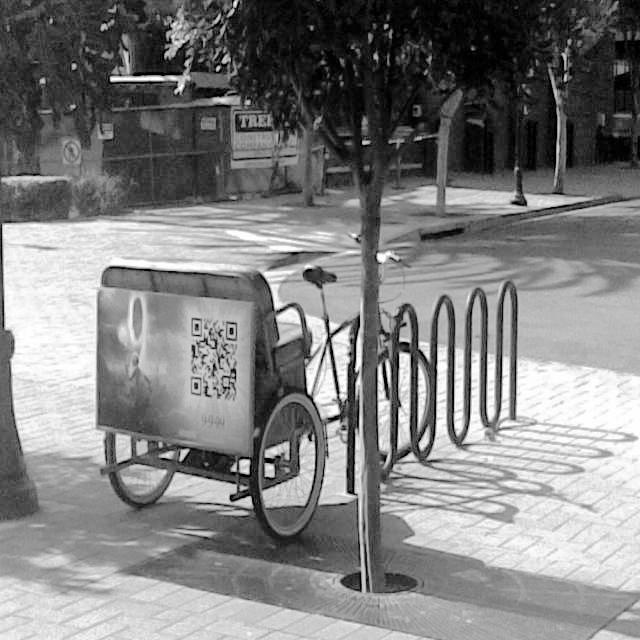qr_code: (191, 317, 237, 401)
